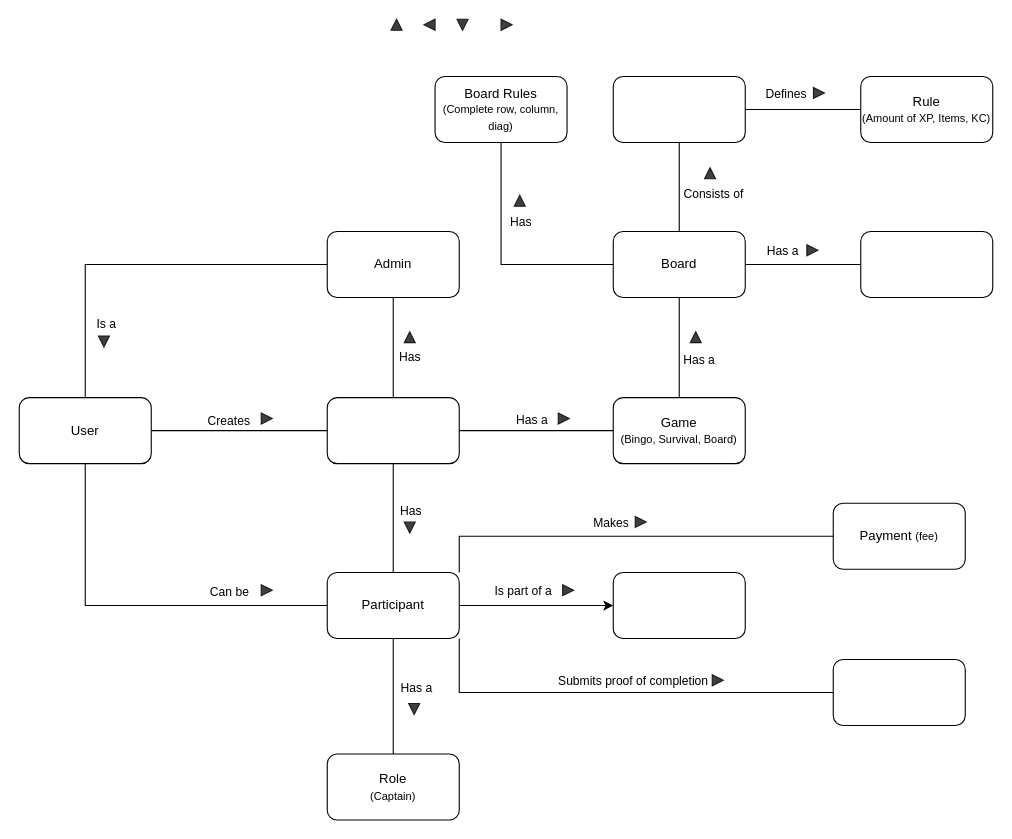
The diagram is 1012 pixels wide and 839 high, and some of its shapes have lost their labels. The shapes that lost their labels are listed below. From the top down, each one's centre as x and y in pixels, then its label:
At (678,108): "Tile".
At (926,264): "Layout".
At (392,430): "Event".
At (678,605): "Team".
At (898,691): "Image".
